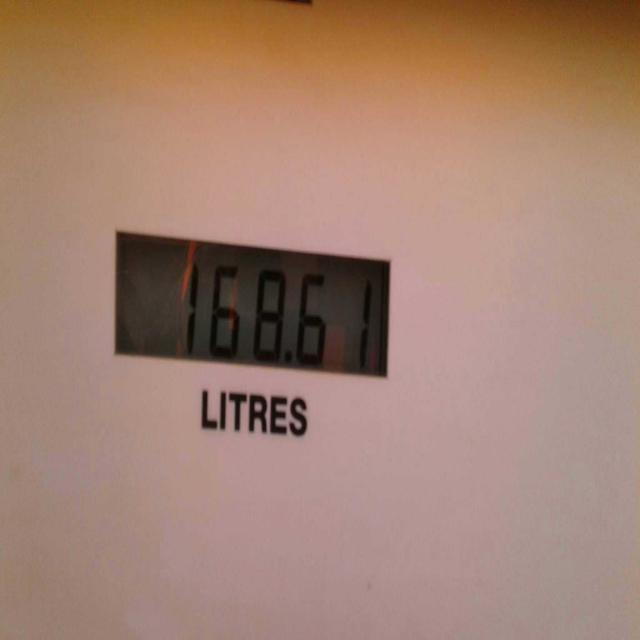.: (279, 341, 293, 371)
1: (346, 266, 377, 378), (177, 257, 202, 358)
6: (291, 266, 330, 372), (208, 263, 242, 359)
8: (248, 260, 287, 369)
